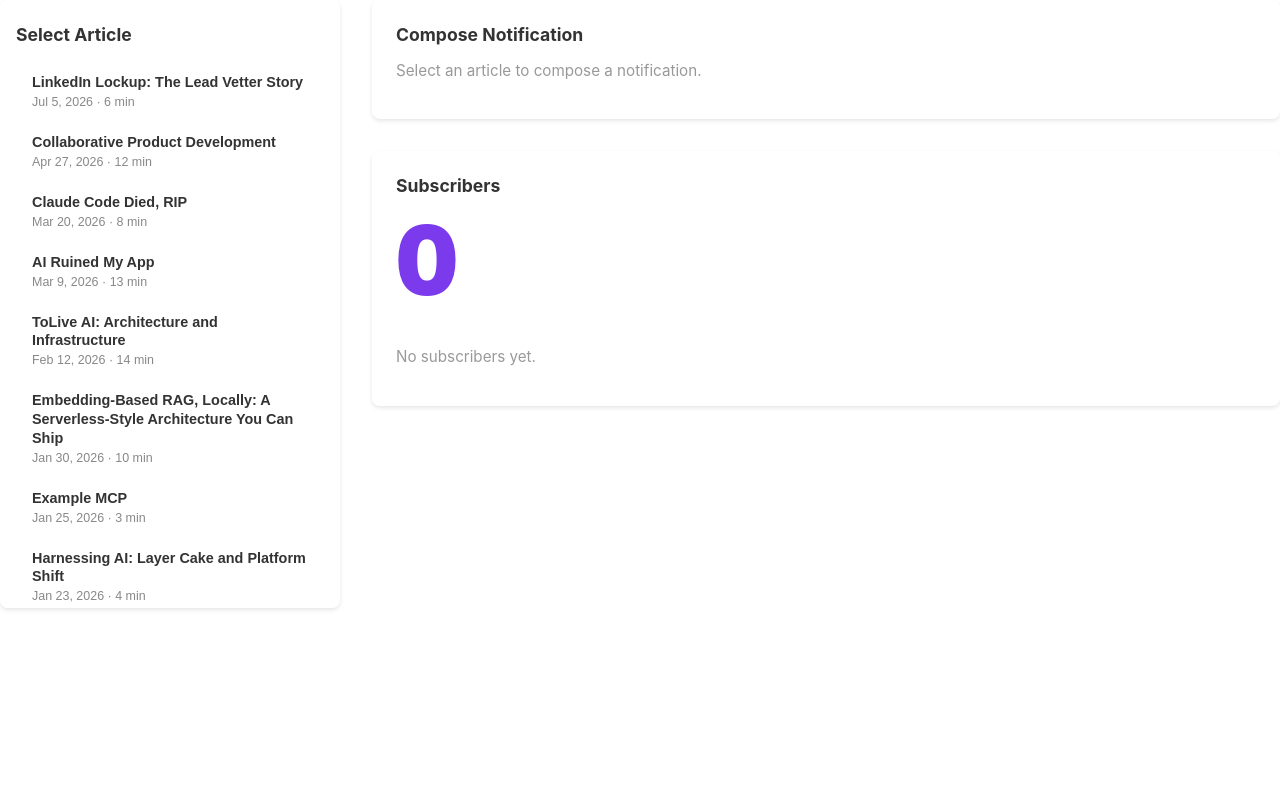
Scenario: NotificationsView › pre-fills form fields when an article is selected
Click the text "LinkedIn Lockup: The Lead Vetter Story". click: [168, 82]
box: [32,73,303,92]
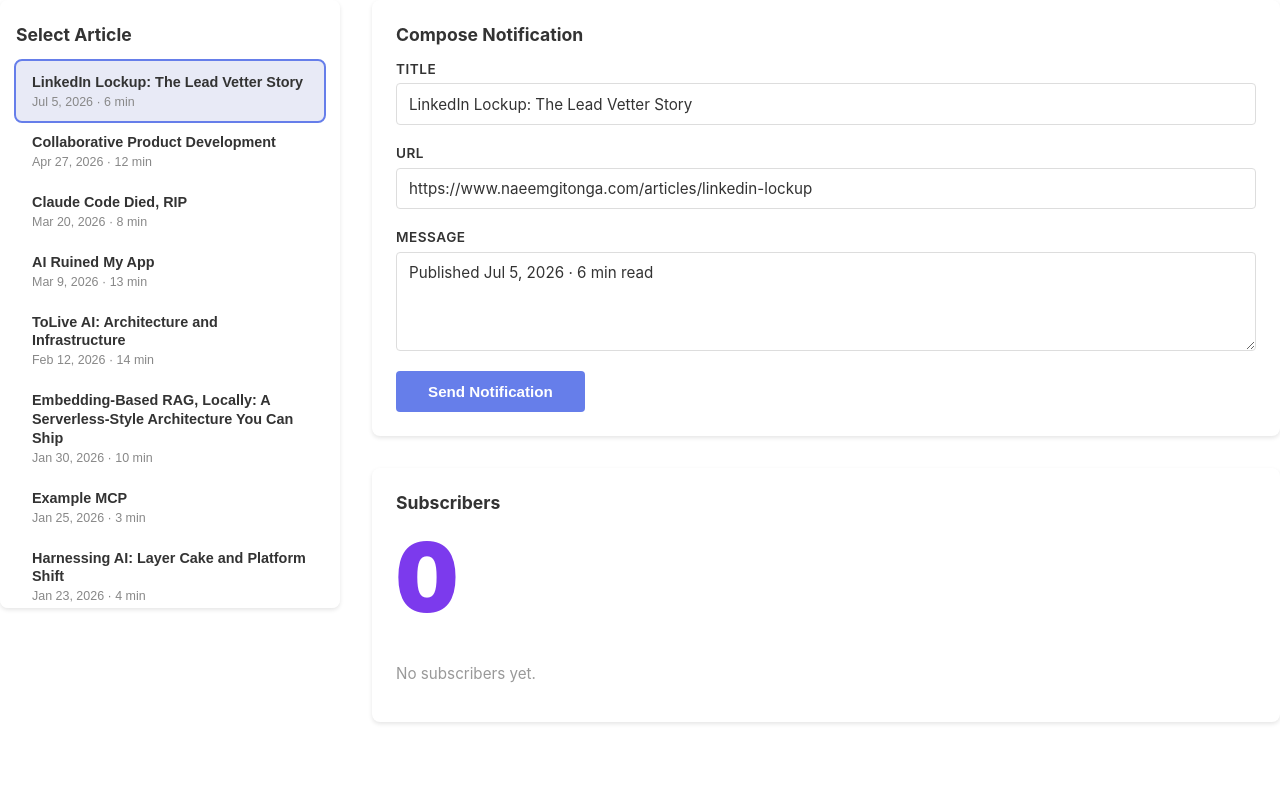
Expected: the field labelled "Title" holds "LinkedIn Lockup: The Lead Vetter Story", [396,83,1256,125]
